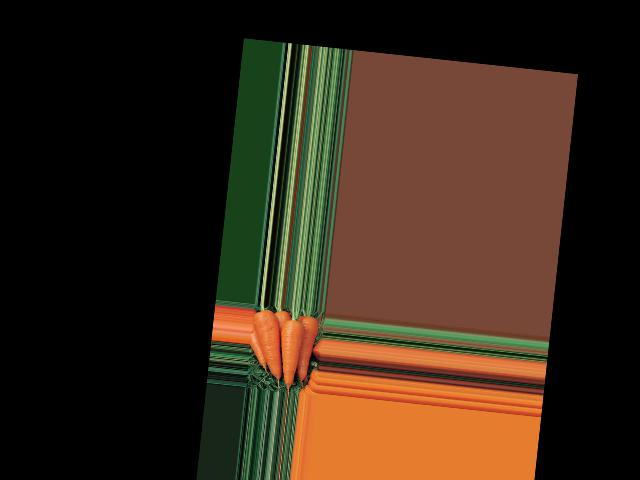carrot: (249, 309, 289, 382)
